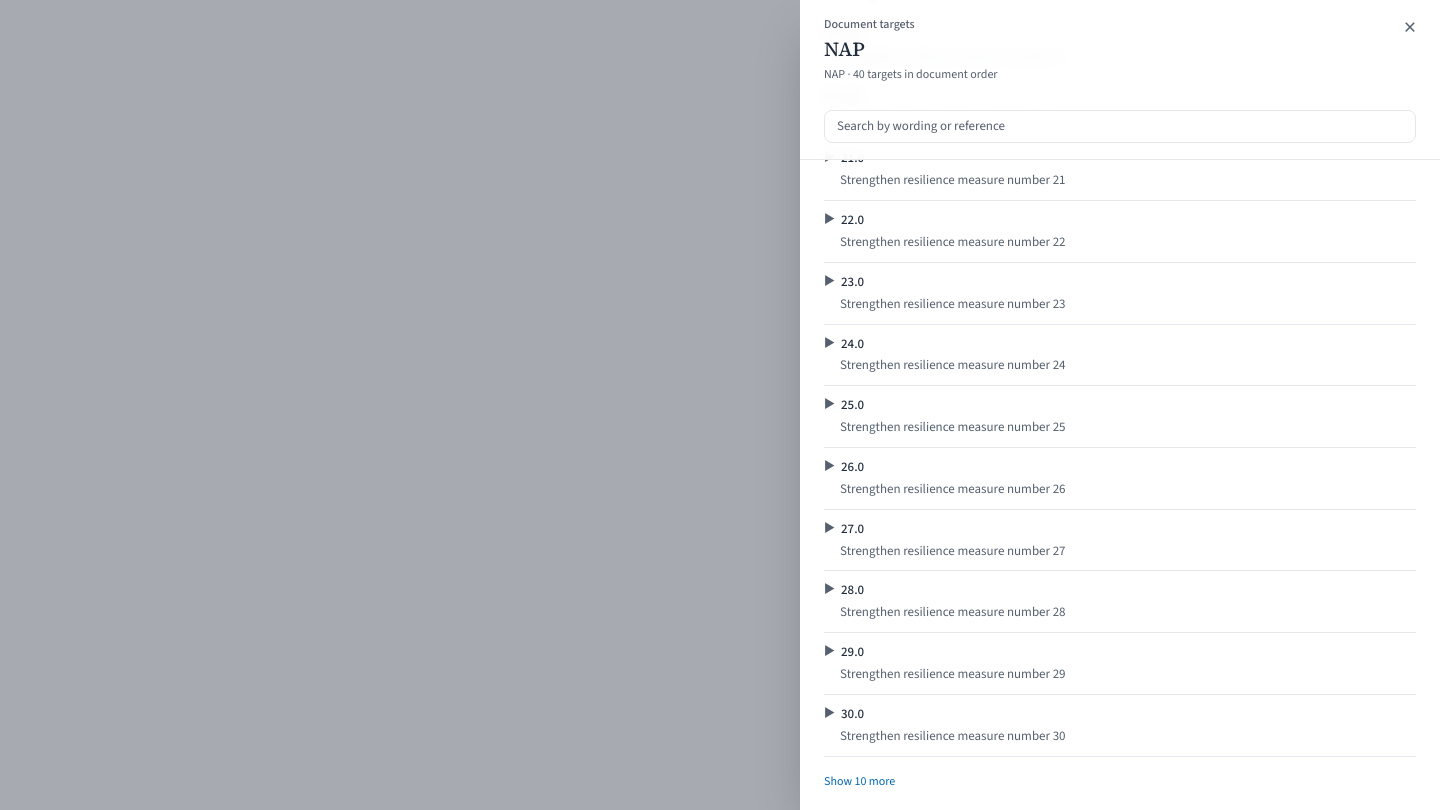
Test case: DocTargetsDrawer search › goes back to the first batch when the query changes
The image size is (1440, 810).
(page scrolled)
Click the button "Show 10 more" at (860,781), box [824,773,895,790]
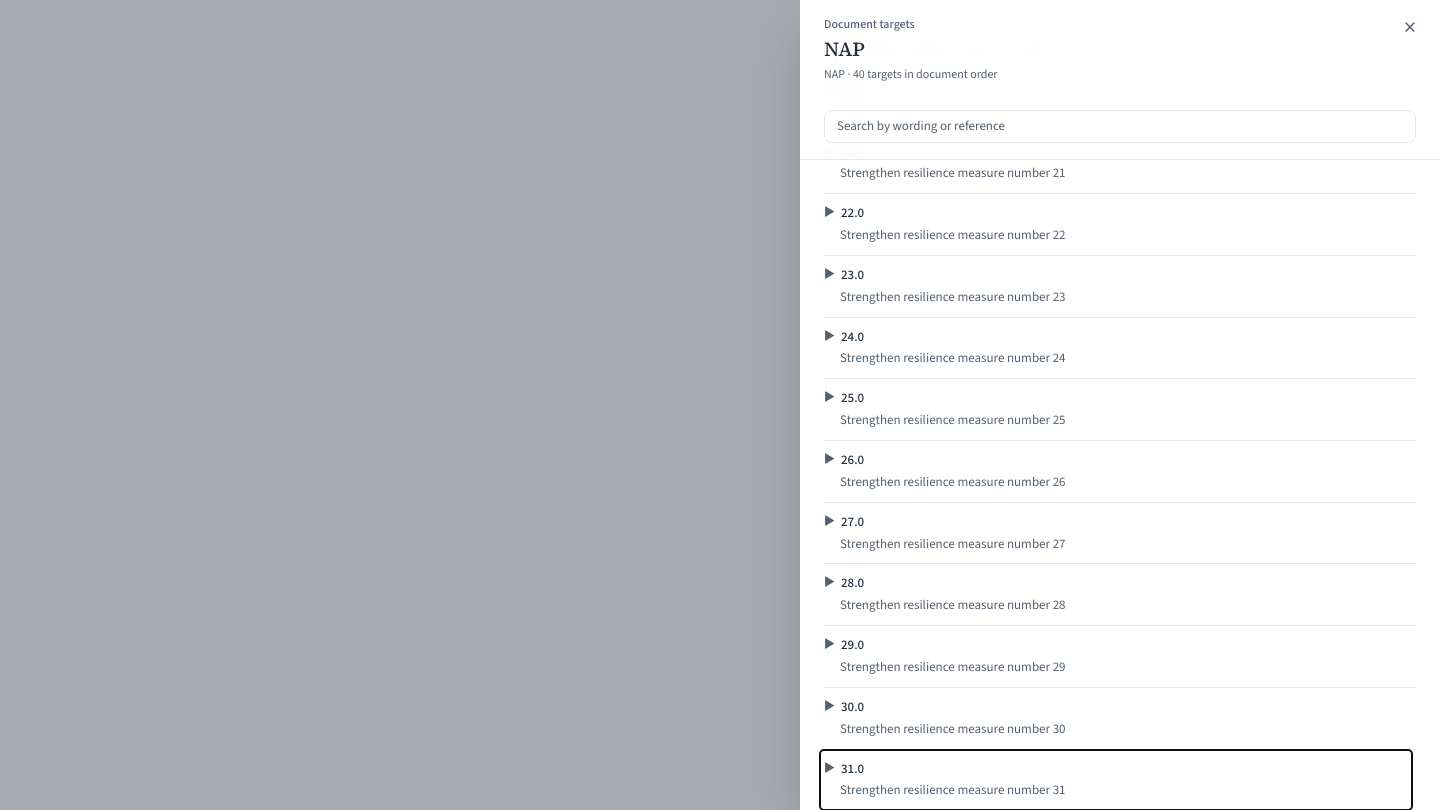
Note: Still matches every target, so only the reveal count can explain 30.
Type "resilience" into the search field named "Search these targets" at (1120,126), box [824,110,1416,143]
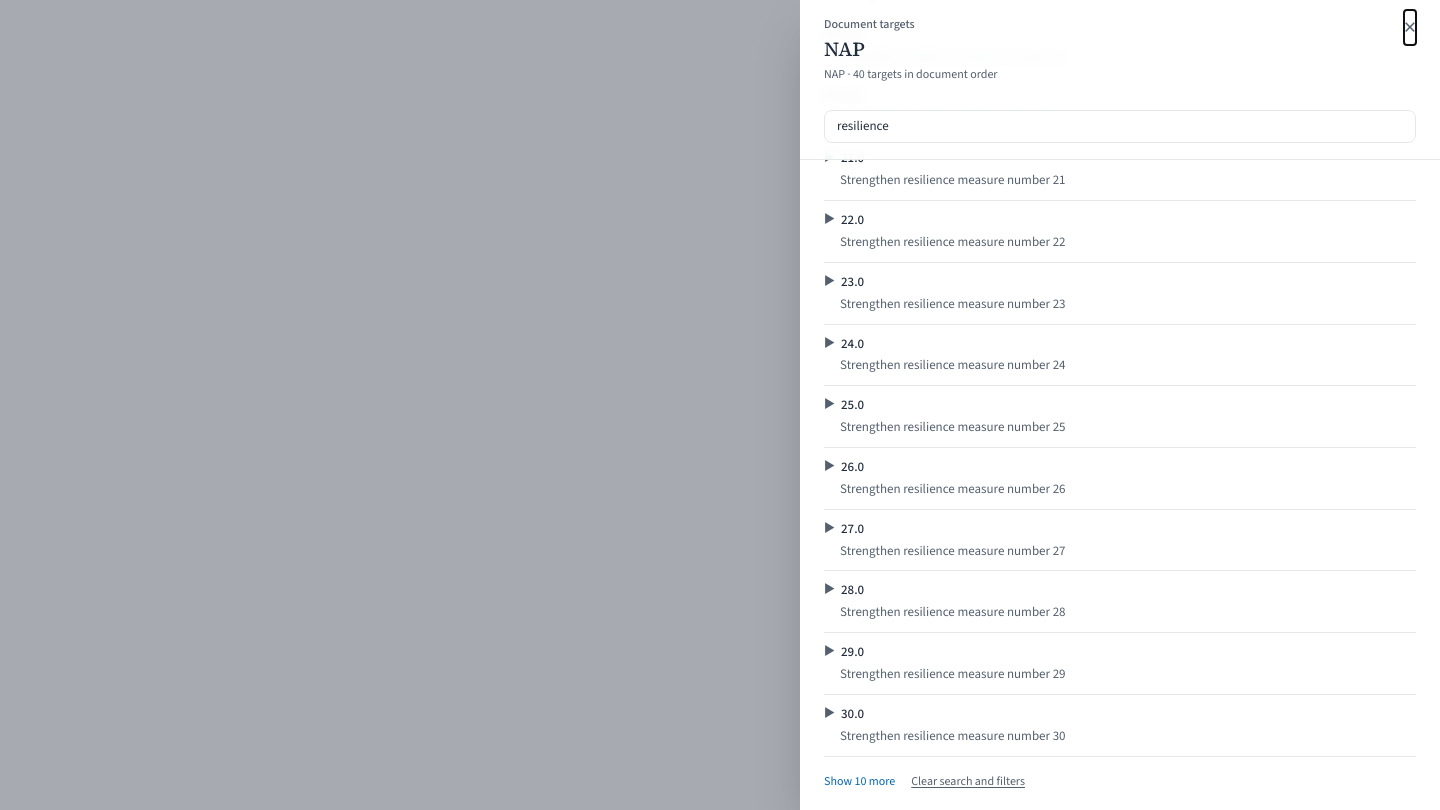
Check: the button "Show 10 more" is shown, box [824,773,895,790]
